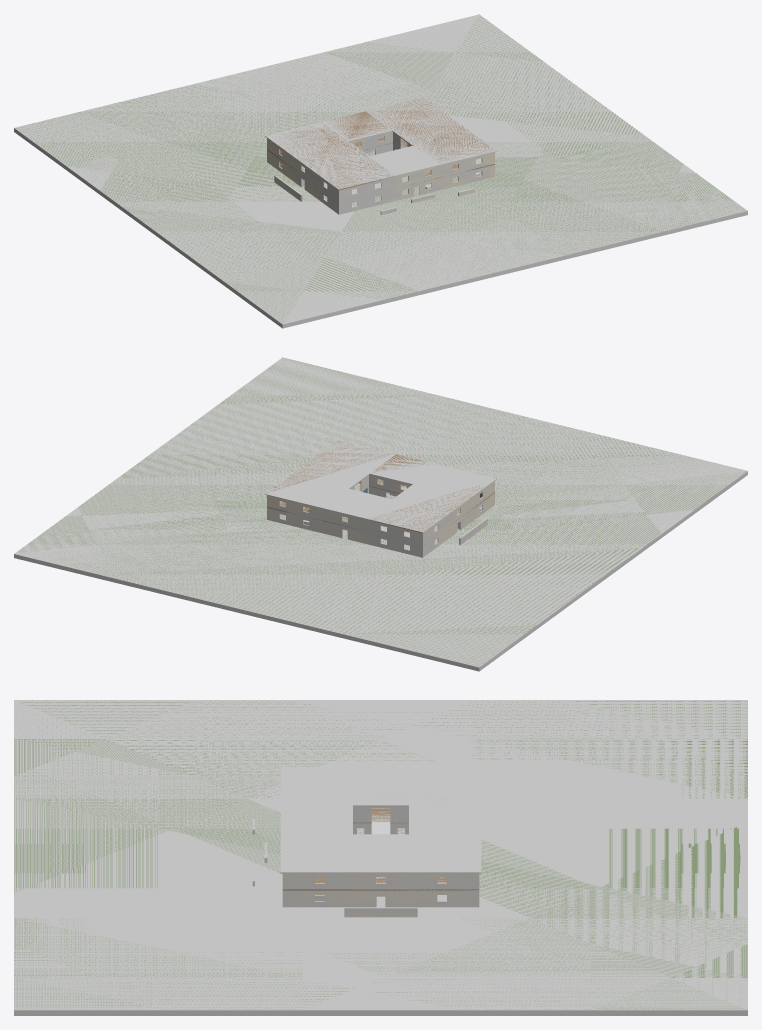
The model's file is map_mansion.glb.
3 views of the same model, one above another, from view 1: azimuth 30°, elevation 25°; view 2: azimuth 150°, elevation 25°; view 3: azimuth 270°, elevation 25° (orthographic). The views are drawn at different scales.
Parts seen in each view (by area): view 1: Vl_Col_Ground, Vl_Ground, Vl_Static_Floors_Stairs_Roof, Vl_Static_Walls, Vl_Col_Roof_01, Vl_Col_Roof_02, Vl_Col_Roof_04, Vl_Col_Roof_03; view 2: Vl_Col_Ground, Vl_Ground, Vl_Static_Walls, Vl_Col_Roof_01, Vl_Col_Roof_02, Vl_Static_Floors_Stairs_Roof, Vl_Col_Roof_03, Vl_Col_Roof_04; view 3: Vl_Col_Ground, Vl_Ground, Vl_Col_Roof_02, Vl_Col_Roof_01, Vl_Static_Walls, Vl_Col_Roof_03, Vl_Col_Roof_04, Vl_Static_Floors_Stairs_Roof, Vl_Col_Wall_15, Vl_Col_Wall_13, Vl_Col_Wall_105, Vl_Col_Wall_102 (+5 smaller).
Boxes of the visible parts, x1,y1,x2,y2 form: Vl_Col_Ground: (14,14,747,328); Vl_Ground: (16,14,746,323); Vl_Static_Floors_Stairs_Roof: (267,98,494,190); Vl_Static_Walls: (267,131,494,214); Vl_Col_Roof_01: (265,122,395,189); Vl_Col_Roof_02: (366,97,496,165); Vl_Col_Roof_04: (370,146,439,176); Vl_Col_Roof_03: (323,112,392,141); Vl_Col_Ground: (14,357,747,671); Vl_Ground: (19,357,745,665); Vl_Static_Walls: (267,475,494,557); Vl_Col_Roof_01: (366,465,496,532); Vl_Col_Roof_02: (265,440,395,508); Vl_Static_Floors_Stairs_Roof: (267,440,494,533); Vl_Col_Roof_03: (322,489,391,519); Vl_Col_Roof_04: (369,455,438,484); Vl_Col_Ground: (14,700,747,1015); Vl_Ground: (14,700,747,1009); Vl_Col_Roof_02: (280,834,481,873); Vl_Col_Roof_01: (280,767,481,806); Vl_Static_Walls: (252,806,479,917); Vl_Col_Roof_03: (409,805,481,834); Vl_Col_Roof_04: (280,805,352,834); Vl_Static_Floors_Stairs_Roof: (282,807,479,890); Vl_Col_Wall_15: (385,890,437,907); Vl_Col_Wall_13: (324,890,376,907); Vl_Col_Wall_105: (386,873,437,889); Vl_Col_Wall_102: (324,873,375,889).
Size of the model in its own units: 120 by 7.4 by 120.
